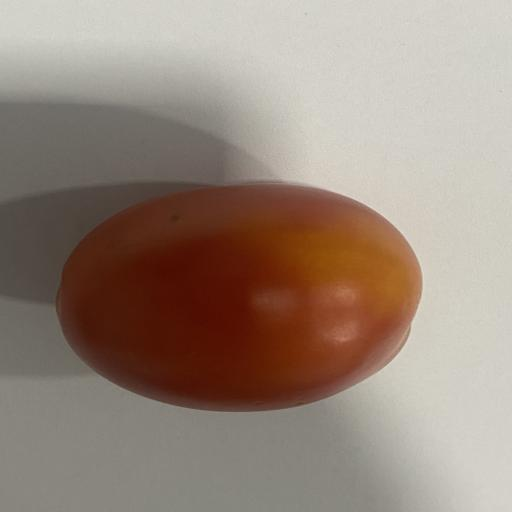ripe: (57, 184, 422, 411)
